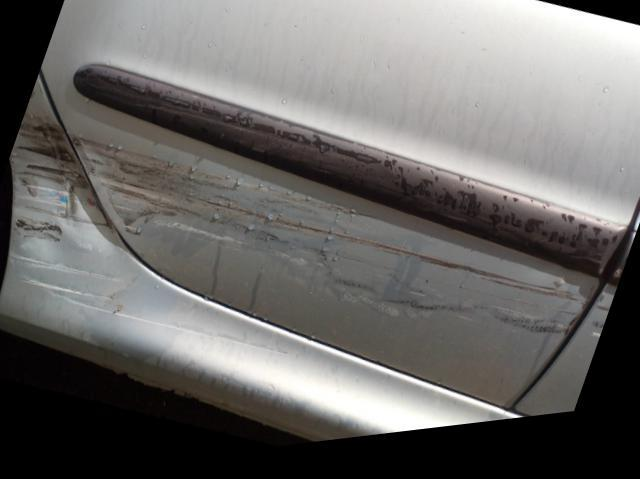scratch: (68, 138, 590, 355), (10, 124, 295, 365)
